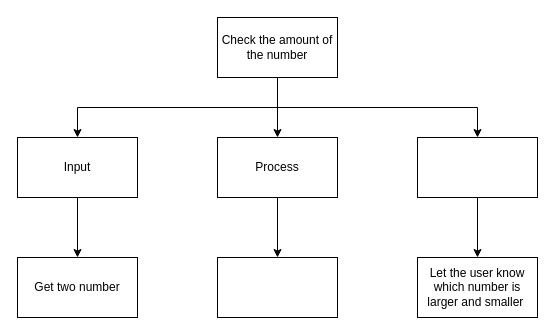
Image size: 555x335. Some labels were removed from this diagram. Here are the shapes that lost their labels. From the top down, the box of each, then its label:
(416, 136, 538, 198): Output
(216, 256, 338, 318): Check the number
